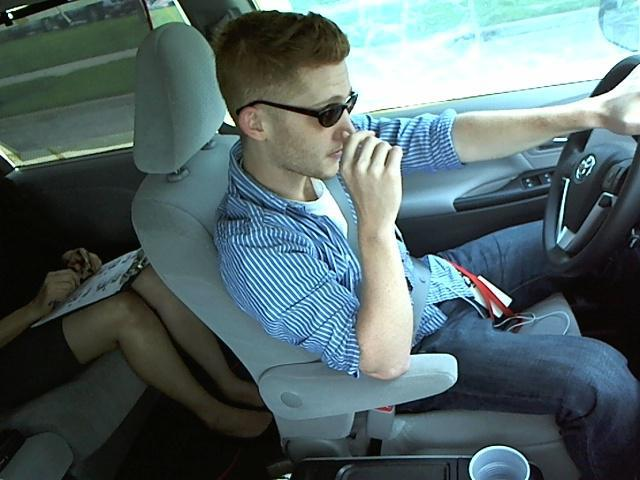c6 - Hair and Makeup: (179, 8, 634, 385)
